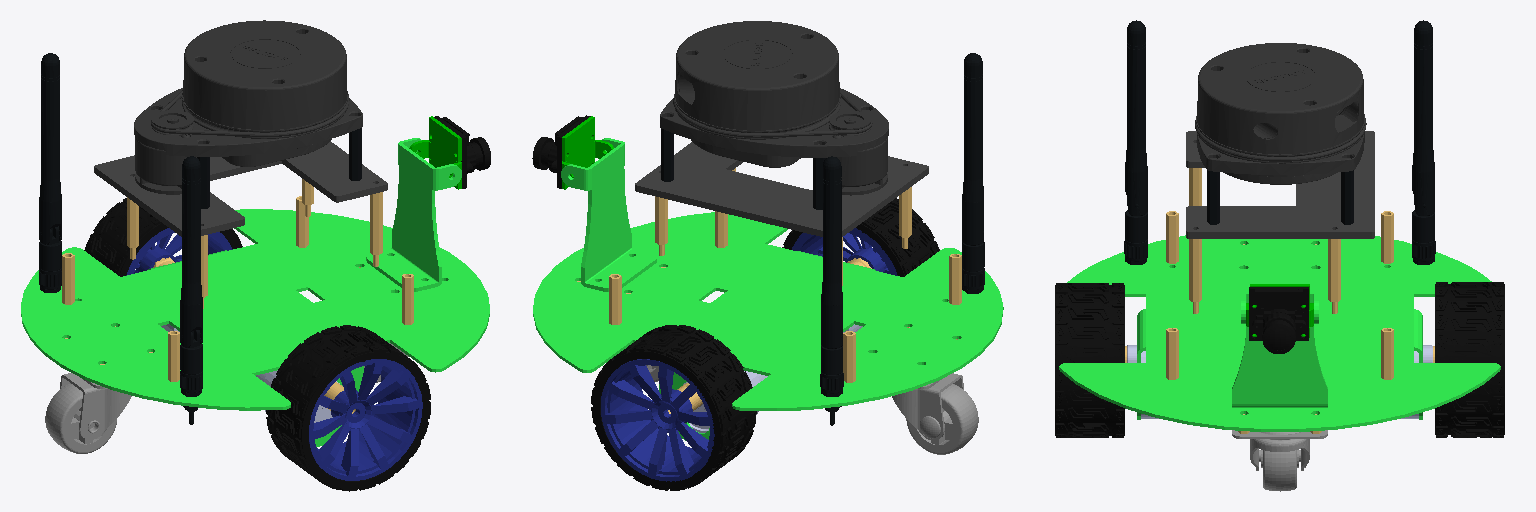
--- Facts derived from the render (not from the file) ---
The picture shows the robot from 3 angles, left to right: view 1: azimuth 30°, elevation 25°; view 2: azimuth 150°, elevation 25°; view 3: azimuth 270°, elevation 25°; orthographic projection.
Model Jetbot with 21 links and 20 joints (2 continuous, 18 fixed), rooted at base_footprint, posed all joints at 0.
Links seen in each view (by area): view 1: base_link, base_scan, antenna_link, wheel_right_rim, wheel_right_tire, upper_plate_link, bolt1_link, caster_back_link, wheel_left_tire, wheel_left_rim, camera_mount_link, camera_link (+1 smaller); view 2: base_link, base_scan, upper_plate_link, antenna_link, wheel_left_rim, wheel_left_tire, caster_back_link, bolt1_link, wheel_right_tire, wheel_right_rim, camera_mount_link, camera_link (+1 smaller); view 3: base_link, base_scan, antenna_link, wheel_left_tire, wheel_right_tire, upper_plate_link, bolt1_link, camera_link, caster_front_link, bolt2_link.
Link boxes in pixels (x1,y1,x2,y2): base_link: (21, 138, 489, 446); base_scan: (134, 20, 362, 194); antenna_link: (39, 53, 202, 424); wheel_right_rim: (309, 359, 422, 480); wheel_right_tire: (266, 325, 430, 491); upper_plate_link: (94, 141, 387, 236); bolt1_link: (62, 179, 413, 381); caster_back_link: (45, 373, 131, 453); wheel_left_tire: (84, 198, 242, 276); wheel_left_rim: (126, 228, 232, 275); camera_mount_link: (409, 116, 461, 189); camera_link: (434, 116, 490, 188); base_link: (533, 138, 1003, 440); base_scan: (660, 21, 888, 195); upper_plate_link: (635, 142, 928, 236); antenna_link: (820, 53, 984, 425); wheel_left_rim: (601, 359, 714, 481); wheel_left_tire: (591, 325, 756, 490); caster_back_link: (892, 373, 978, 454); bolt1_link: (577, 168, 961, 382); wheel_right_tire: (782, 198, 939, 276); wheel_right_rim: (792, 228, 897, 275); camera_mount_link: (562, 116, 613, 189); camera_link: (532, 115, 590, 188); base_link: (1059, 235, 1500, 431); base_scan: (1195, 43, 1366, 184); antenna_link: (1124, 20, 1435, 264); wheel_left_tire: (1435, 282, 1504, 437); wheel_right_tire: (1055, 283, 1124, 437); upper_plate_link: (1186, 131, 1374, 238); bolt1_link: (1166, 168, 1393, 433); camera_link: (1249, 287, 1308, 353); caster_front_link: (1232, 430, 1327, 491); bolt2_link: (1207, 170, 1353, 224).
Size in the robot's own frame: 0.2137 by 0.1878 by 0.1655 metres.
Meshes: 20 distinct files referenced, 18 mesh visuals loaded (18 binary STL); not drawn: 2 (reference not matched to a file when rendering).

robot.urdf — Jetbot:
<?xml version="1.0" encoding="utf-8"?>
<!-- This URDF was automatically created by SolidWorks to URDF Exporter! Originally created by Stephen Brawner ([email redacted]) 
     Commit Version: 1.6.0-4-g7f85cfe  Build Version: 1.6.7995.38578
     For more information, please see http://wiki.ros.org/sw_urdf_exporter -->
<robot
  name="Jetbot">
  
  <link name="base_footprint"/>

  <joint name="base_joint" type="fixed">
    <parent link="base_footprint"/>
    <child link="base_link"/>
    <origin xyz="0.0 0.0 0.010" rpy="0 0 0"/>
  </joint>


  <link
    name="base_link">
    <inertial>
      <origin
        xyz="0.00781963845778095 -7.35882317130787E-08 -0.000209926041797086"
        rpy="0 0 0" />
      <mass
        value="0.045584055118095" />
      <inertia
        ixx="7.90379546337164E-05"
        ixy="-6.67110738185195E-13"
        ixz="-2.39290720776838E-07"
        iyy="0.000115926497813917"
        iyz="-1.15368484324182E-10"
        izz="0.000189544079309469" />
    </inertial>
    <visual>
      <origin
        xyz="0 0 0"
        rpy="0 0 0" />
      <geometry>
        <mesh
          filename="package://jetbot_model/meshes/other_parts/base_link.STL" />
      </geometry>
      <material
        name="">
        <color
          rgba="0.223529411764706 1 0.352941176470588 1" />
      </material>
    </visual>
    <collision>
      <origin
        xyz="0 0 0"
        rpy="0 0 0" />
      <geometry>
        <mesh
          filename="package://jetbot_model/meshes/other_parts/base_link.STL" />
      </geometry>
    </collision>
  </link>
  <link
    name="wheel_right_link">
    <inertial>
      <origin
        xyz="1.98363002065771E-08 -8.50421726095174E-10 0.00586401160881991"
        rpy="0 0 0" />
      <mass
        value="0.00172858234067031" />
      <inertia
        ixx="6.56229488257871E-08"
        ixy="-4.0657627162479E-11"
        ixz="3.21252173208187E-14"
        iyy="6.48514677017681E-08"
        iyz="1.99615043771152E-15"
        izz="3.47684231742651E-08" />
    </inertial>
    <visual>
      <origin
        xyz="0 0 0"
        rpy="0 0 0" />
      <geometry>
        <mesh
          filename="package://jetbot_model/meshes/wheels/wheel_right_link.STL" />
      </geometry>
      <material
        name="">
        <color
          rgba="0.952941176470588 0.796078431372549 0.486274509803922 1" />
      </material>
    </visual>
    <collision>
      <origin
        xyz="0 0 0"
        rpy="0 0 0" />
      <geometry>
        <mesh
          filename="package://jetbot_model/meshes/wheels/wheel_right_link.STL" />
      </geometry>
    </collision>
  </link>
  <joint
    name="wheel_right_joint"
    type="continuous">
    <origin
      xyz="0 -0.0796 -0.0149998499189951"
      rpy="-1.57079632679489 0 0" />
    <parent
      link="base_link" />
    <child
      link="wheel_right_link" />
    <axis
      xyz="0 0 1" />
    <limit
      lower="0"
      upper="0"
      effort="0"
      velocity="0" />
  </joint>
  <link
    name="wheel_right_rim">
    <inertial>
      <origin
        xyz="-5.4423268058823E-08 -3.02317271563823E-08 -0.0013175684688612"
        rpy="0 0 0" />
      <mass
        value="0.0150430722977072" />
      <inertia
        ixx="5.42837949690631E-06"
        ixy="3.84011877778841E-12"
        ixz="-6.00504131491743E-12"
        iyy="5.42837483963373E-06"
        iyz="-3.30832951882215E-12"
        izz="8.62999669450023E-06" />
    </inertial>
    <visual>
      <origin
        xyz="0 0 0"
        rpy="0 0 0" />
      <geometry>
        <mesh
          filename="package://jetbot_model/meshes/wheels/wheel_right_rim.STL" />
      </geometry>
      <material
        name="">
        <color
          rgba="0.188235294117647 0.231372549019608 0.588235294117647 1" />
      </material>
    </visual>
    <collision>
      <origin
        xyz="0 0 0"
        rpy="0 0 0" />
      <geometry>
        <mesh
          filename="package://jetbot_model/meshes/wheels/wheel_right_rim.STL" />
      </geometry>
    </collision>
  </link>
  <joint
    name="wheel_right_rim_joint"
    type="fixed">
    <origin
      xyz="0 0 0"
      rpy="0 0 0" />
    <parent
      link="wheel_right_link" />
    <child
      link="wheel_right_rim" />
    <axis
      xyz="0 0 0" />
  </joint>
  <link
    name="wheel_right_tire">
    <inertial>
      <origin
        xyz="2.82158362829299E-05 0.00140580379860784 0.000181962684636737"
        rpy="0 0 0" />
      <mass
        value="0.0254630899937217" />
      <inertia
        ixx="1.28912347647895E-05"
        ixy="7.07465873148456E-10"
        ixz="-9.06345483333125E-12"
        iyy="1.29264691304977E-05"
        iyz="-4.52275733373978E-10"
        izz="2.22597285939851E-05" />
    </inertial>
    <visual>
      <origin
        xyz="0 0 0"
        rpy="0 0 0" />
      <geometry>
        <mesh
          filename="package://jetbot_model/meshes/wheels/wheel_right_tire.STL" />
      </geometry>
      <material
        name="">
        <color
          rgba="0.0980392156862745 0.0980392156862745 0.0980392156862745 1" />
      </material>
    </visual>
    <collision>
      <origin
        xyz="0 0 0"
        rpy="0 0 0" />
      <geometry>
        <mesh
          filename="package://jetbot_model/meshes/wheels/wheel_right_tire.STL" />
      </geometry>
    </collision>
  </link>
  <joint
    name="wheel_right_tire_joint"
    type="fixed">
    <origin
      xyz="0 0 0"
      rpy="0 0 0" />
    <parent
      link="wheel_right_link" />
    <child
      link="wheel_right_tire" />
    <axis
      xyz="0 0 0" />
  </joint>
  <link
    name="wheel_left_link">
    <inertial>
      <origin
        xyz="2.3009393140816E-09 1.97207421781531E-08 -0.00586401160882002"
        rpy="0 0 0" />
      <mass
        value="0.00172858234067031" />
      <inertia
        ixx="6.48580948386293E-08"
        ixy="8.1986795876624E-11"
        ixz="-7.05727936679317E-15"
        iyy="6.56163216889261E-08"
        iyz="-3.14039638015827E-14"
        izz="3.47684231742651E-08" />
    </inertial>
    <visual>
      <origin
        xyz="0 0 0"
        rpy="0 0 0" />
      <geometry>
        <mesh
          filename="package://jetbot_model/meshes/wheels/wheel_left_link.STL" />
      </geometry>
      <material
        name="">
        <color
          rgba="0.952941176470588 0.796078431372549 0.486274509803922 1" />
      </material>
    </visual>
    <collision>
      <origin
        xyz="0 0 0"
        rpy="0 0 0" />
      <geometry>
        <mesh
          filename="package://jetbot_model/meshes/wheels/wheel_left_link.STL" />
      </geometry>
    </collision>
  </link>
  <joint
    name="wheel_left_joint"
    type="continuous">
    <origin
      xyz="0 0.0796 -0.0149998499189951"
      rpy="-1.5707963267949 0 0" />
    <parent
      link="base_link" />
    <child
      link="wheel_left_link" />
    <axis
      xyz="0 0 1" />
    <limit
      lower="0"
      upper="0"
      effort="0"
      velocity="0" />
  </joint>
  <link
    name="wheel_left_rim">
    <inertial>
      <origin
        xyz="-3.84671055148056E-08 -4.89502935754893E-08 0.00131756846886109"
        rpy="0 0 0" />
      <mass
        value="0.0150430722977072" />
      <inertia
        ixx="5.42837615703599E-06"
        ixy="4.37566736479211E-12"
        ixz="4.21736389882695E-12"
        iyy="5.4283781795041E-06"
        iyz="5.40549773271856E-12"
        izz="8.62999669450022E-06" />
    </inertial>
    <visual>
      <origin
        xyz="0 0 0"
        rpy="0 0 0" />
      <geometry>
        <mesh
          filename="package://jetbot_model/meshes/wheels/wheel_left_rim.STL" />
      </geometry>
      <material
        name="">
        <color
          rgba="0.188235294117647 0.231372549019608 0.588235294117647 1" />
      </material>
    </visual>
    <collision>
      <origin
        xyz="0 0 0"
        rpy="0 0 0" />
      <geometry>
        <mesh
          filename="package://jetbot_model/meshes/wheels/wheel_left_rim.STL" />
      </geometry>
    </collision>
  </link>
  <joint
    name="wheel_left_rim_joint"
    type="fixed">
    <origin
      xyz="0 0 0"
      rpy="0 0 0" />
    <parent
      link="wheel_left_link" />
    <child
      link="wheel_left_rim" />
    <axis
      xyz="0 0 0" />
  </joint>
  <link
    name="wheel_left_tire">
    <inertial>
      <origin
        xyz="0.00139253923871222 -0.000194717544789592 -0.000181962684636799"
        rpy="0 0 0" />
      <mass
        value="0.0254630899937217" />
      <inertia
        ixx="1.29258070859562E-05"
        ixy="-4.83620972217383E-09"
        ixz="4.48006012970371E-10"
        iyy="1.28918968093311E-05"
        iyz="-6.26585791959336E-11"
        izz="2.22597285939851E-05" />
    </inertial>
    <visual>
      <origin
        xyz="0 0 0"
        rpy="0 0 0" />
      <geometry>
        <mesh
          filename="package://jetbot_model/meshes/wheels/wheel_left_tire.STL" />
      </geometry>
      <material
        name="">
        <color
          rgba="0.0980392156862745 0.0980392156862745 0.0980392156862745 1" />
      </material>
    </visual>
    <collision>
      <origin
        xyz="0 0 0"
        rpy="0 0 0" />
      <geometry>
        <mesh
          filename="package://jetbot_model/meshes/wheels/wheel_left_tire.STL" />
      </geometry>
    </collision>
  </link>
  <joint
    name="wheel_left_tire_joint"
    type="fixed">
    <origin
      xyz="0 0 0"
      rpy="0 0 0" />
    <parent
      link="wheel_left_link" />
    <child
      link="wheel_left_tire" />
    <axis
      xyz="0 0 0" />
  </joint>
  <link
    name="camera_mount_link">
    <inertial>
      <origin
        xyz="0.0911446606387492 -5.00000000013164E-05 0.0475547495822917"
        rpy="0 0 0" />
      <mass
        value="0.00369253564371622" />
      <inertia
        ixx="7.11782812945527E-07"
        ixy="-3.32390099825911E-21"
        ixz="1.1528802234911E-23"
        iyy="7.28653732283989E-08"
        iyz="1.79708825096588E-22"
        izz="7.14964958537606E-07" />
    </inertial>
    <visual>
      <origin
        xyz="0 0 0"
        rpy="0 0 0" />
      <geometry>
        <mesh
          filename="package://jetbot_model/meshes/csi/camera_mount_link.STL" />
      </geometry>
      <material
        name="">
        <color
          rgba="0 0.8 0 1" />
      </material>
    </visual>
    <collision>
      <origin
        xyz="0 0 0"
        rpy="0 0 0" />
      <geometry>
        <mesh
          filename="package://jetbot_model/meshes/csi/camera_mount_link.STL" />
      </geometry>
    </collision>
  </link>
  <joint
    name="camera_mount_joint"
    type="fixed">
    <origin
      xyz="0 0 0"
      rpy="0 0 0" />
    <parent
      link="base_link" />
    <child
      link="camera_mount_link" />
    <axis
      xyz="0 0 0" />
  </joint>
  <link
    name="camera_link">
    <inertial>
      <origin
        xyz="0.104505569284287 0.00251089945216483 0.0474874189920585"
        rpy="0 0 0" />
      <mass
        value="0.0294229179644187" />
      <inertia
        ixx="2.18815235786117E-05"
        ixy="2.75098516448229E-07"
        ixz="7.68689291749069E-11"
        iyy="1.35440746294821E-06"
        iyz="1.72750913510838E-09"
        izz="2.09152095144145E-05" />
    </inertial>
    <visual>
      <origin
        xyz="0 0 0"
        rpy="0 0 0" />
      <geometry>
        <mesh
          filename="package://jetbot_model/meshes/csi/camera_link.STL" />
      </geometry>
      <material
        name="">
        <color
          rgba="0.1 0.1 0.1 1" />
      </material>
    </visual>
    <collision>
      <origin
        xyz="0 0 0"
        rpy="0 0 0" />
      <geometry>
        <mesh
          filename="package://jetbot_model/meshes/csi/camera_link.STL" />
      </geometry>
    </collision>
  </link>
  <joint
    name="camera_joint"
    type="fixed">
    <origin
      xyz="0 0 0"
      rpy="0 0 0" />
    <parent
      link="camera_mount_link" />
    <child
      link="camera_link" />
    <axis
      xyz="0 0 0" />
  </joint>
  <link
    name="caster_back_link">
    <inertial>
      <origin
        xyz="-0.00973608929282141 0.0160138996536298 0.000112305501830591"
        rpy="0 0 0" />
      <mass
        value="0.0122543299069677" />
      <inertia
        ixx="1.03465897444937E-06"
        ixy="4.08895923420779E-08"
        ixz="2.41090924462367E-13"
        iyy="1.24920234693942E-06"
        iyz="-2.2498975199297E-12"
        izz="1.2900058431033E-06" />
    </inertial>
    <visual>
      <origin
        xyz="0 0 0"
        rpy="0 0 0" />
      <geometry>
        <mesh
          filename="package://jetbot_model/meshes/other_parts/caster_back_link.STL" />
      </geometry>
      <material
        name="">
        <color
          rgba="0.627450980392157 0.627450980392157 0.627450980392157 1" />
      </material>
    </visual>
    <collision>
      <origin
        xyz="0 0 0"
        rpy="0 0 0" />
      <geometry>
        <mesh
          filename="package://jetbot_model/meshes/other_parts/caster_back_link.STL" />
      </geometry>
    </collision>
  </link>
  <joint
    name="caster_back_joint"
    type="fixed">
    <origin
      xyz="-0.072 0 -0.0103157534698361"
      rpy="-1.5707963267949 0 0" />
    <parent
      link="base_link" />
    <child
      link="caster_back_link" />
    <axis
      xyz="0 0 0" />
  </joint>
  <link
    name="caster_front_link">
    <inertial>
      <origin
        xyz="-0.00973608929282145 0.0136318109633328 0.00011230550183057"
        rpy="0 0 0" />
      <mass
        value="0.0122543299069677" />
      <inertia
        ixx="1.03465897444937E-06"
        ixy="4.08895923420787E-08"
        ixz="2.41090924810355E-13"
        iyy="1.24920234693941E-06"
        iyz="-2.24989751966103E-12"
        izz="1.29000584310329E-06" />
    </inertial>
    <visual>
      <origin
        xyz="0 0 0"
        rpy="0 0 0" />
      <geometry>
        <mesh
          filename="package://jetbot_model/meshes/other_parts/caster_front_link.STL" />
      </geometry>
      <material
        name="">
        <color
          rgba="0.627450980392157 0.627450980392157 0.627450980392157 1" />
      </material>
    </visual>
    <collision>
      <origin
        xyz="0 0 0"
        rpy="0 0 0" />
      <geometry>
        <mesh
          filename="package://jetbot_model/meshes/other_parts/caster_front_link.STL" />
      </geometry>
    </collision>
  </link>
  <joint
    name="caster_front_joint"
    type="fixed">
    <origin
      xyz="0.072 0 -0.0126978421601332"
      rpy="-1.5707963267949 0 0" />
    <parent
      link="base_link" />
    <child
      link="caster_front_link" />
    <axis
      xyz="0 0 0" />
  </joint>
  <link
    name="imu_link">
    <inertial>
      <origin
        xyz="0.00785413895950092 0.000589850419601447 -0.00363505947193948"
        rpy="0 0 0" />
      <mass
        value="0.0511068131705108" />
      <inertia
        ixx="3.02554869448374E-05"
        ixy="-6.81147489939493E-08"
        ixz="4.3124398785099E-10"
        iyy="3.79539557275355E-05"
        iyz="-1.32997366822506E-10"
        izz="6.69860000874932E-05" />
    </inertial>
    <visual>
      <origin
        xyz="0 0 0"
        rpy="0 0 0" />
      <geometry>
        <mesh
          filename="package://jetbot_model/meshes/other_parts/imu_link.STL" />
      </geometry>
      <material
        name="">
        <color
          rgba="0.5 0.5 0.5 1" />
      </material>
    </visual>
    <collision>
      <origin
        xyz="0 0 0"
        rpy="0 0 0" />
      <geometry>
        <mesh
          filename="package://jetbot_model/meshes/other_parts/imu_link.STL" />
      </geometry>
    </collision>
  </link>
  <joint
    name="imu_joint"
    type="fixed">
    <origin
      xyz="-0.00987996130762421 -0.000612791192577962 0.02311148"
      rpy="0 0 0" />
    <parent
      link="base_link" />
    <child
      link="imu_link" />
    <axis
      xyz="0 0 0" />
  </joint>
  <link
    name="base_scan">
    <inertial>
      <origin
        xyz="-0.013480243056544 0.000481284255951939 -0.00102869936495666"
        rpy="0 0 0" />
      <mass
        value="0.0634432857550415" />
      <inertia
        ixx="1.68383298504221E-05"
        ixy="-1.0448046286551E-07"
        ixz="4.28825686069912E-07"
        iyy="2.10729825490332E-05"
        iyz="-9.43318165957986E-09"
        izz="3.56809250260432E-05" />
    </inertial>
    <visual>
      <origin
        xyz="0 0 0"
        rpy="0 0 0" />
      <geometry>
        <mesh
          filename="package://jetbot_model/meshes/other_parts/base_scan.STL" />
      </geometry>
      <material
        name="">
        <color
          rgba="0.250980392156863 0.250980392156863 0.250980392156863 1" />
      </material>
    </visual>
    <collision>
      <origin
        xyz="0 0 0"
        rpy="0 0 0" />
      <geometry>
        <mesh
          filename="package://jetbot_model/meshes/other_parts/base_scan.STL" />
      </geometry>
    </collision>
  </link>
  <joint
    name="scan_joint"
    type="fixed">
    <origin
      xyz="0.005050049260789 0.000300068757988995 0.092186480000001"
      rpy="0 0 0" />
    <parent
      link="base_link" />
    <child
      link="base_scan" />
    <axis
      xyz="0 0 0" />
  </joint>
  <link
    name="left_motor_link">
    <inertial>
      <origin
        xyz="-2.95081696598254E-07 0.0340253884275023 -0.0216175641159498"
        rpy="0 0 0" />
      <mass
        value="0.0142497272964593" />
      <inertia
        ixx="1.363828934402E-06"
        ixy="-1.47318833570828E-11"
        ixz="-3.04947037598095E-10"
        iyy="2.22876633823434E-06"
        iyz="7.05904980580848E-09"
        izz="1.38872041914448E-06" />
    </inertial>
    <visual>
      <origin
        xyz="0 0 0"
        rpy="0 0 0" />
      <geometry>
        <mesh
          filename="package://jetbot_model/meshes/other_parts/left_motor_link.STL" />
      </geometry>
      <material
        name="">
        <color
          rgba="0.792156862745098 0.819607843137255 0.933333333333333 1" />
      </material>
    </visual>
    <collision>
      <origin
        xyz="0 0 0"
        rpy="0 0 0" />
      <geometry>
        <mesh
          filename="package://jetbot_model/meshes/other_parts/left_motor_link.STL" />
      </geometry>
    </collision>
  </link>
  <joint
    name="left_motor_joint"
    type="fixed">
    <origin
      xyz="0 0 0"
      rpy="0 0 0" />
    <parent
      link="base_link" />
    <child
      link="left_motor_link" />
    <axis
      xyz="0 0 0" />
  </joint>
  <link
    name="right_motor_link">
    <inertial>
      <origin
        xyz="2.9508169580722E-07 -0.0340253884275023 -0.0216175641159498"
        rpy="0 0 0" />
      <mass
        value="0.0142497272964593" />
      <inertia
        ixx="1.36382893440199E-06"
        ixy="-1.4731883386706E-11"
        ixz="3.0494703759845E-10"
        iyy="2.22876633823434E-06"
        iyz="-7.05904980580746E-09"
        izz="1.38872041914447E-06" />
    </inertial>
    <visual>
      <origin
        xyz="0 0 0"
        rpy="0 0 0" />
      <geometry>
        <mesh
          filename="package://jetbot_model/meshes/other_parts/right_motor_link.STL" />
      </geometry>
      <material
        name="">
        <color
          rgba="0.792156862745098 0.819607843137255 0.933333333333333 1" />
      </material>
    </visual>
    <collision>
      <origin
        xyz="0 0 0"
        rpy="0 0 0" />
      <geometry>
        <mesh
          filename="package://jetbot_model/meshes/other_parts/right_motor_link.STL" />
      </geometry>
    </collision>
  </link>
  <joint
    name="right_motor_joint"
    type="fixed">
    <origin
      xyz="0 0 0"
      rpy="0 0 0" />
    <parent
      link="base_link" />
    <child
      link="right_motor_link" />
    <axis
      xyz="0 0 0" />
  </joint>
  <link
    name="upper_plate_link">
    <inertial>
      <origin
        xyz="-0.00767109086663368 0.00605296729060913 0.0621864800000008"
        rpy="0 0 0" />
      <mass
        value="0.017501498901108" />
      <inertia
        ixx="8.93579854534511E-06"
        ixy="-2.74359099373368E-07"
        ixz="4.81575673334949E-19"
        iyy="1.85512486025031E-05"
        iyz="7.07344062963383E-21"
        izz="2.74607948994966E-05" />
    </inertial>
    <visual>
      <origin
        xyz="0 0 0"
        rpy="0 0 0" />
      <geometry>
        <mesh
          filename="package://jetbot_model/meshes/other_parts/upper_plate_link.STL" />
      </geometry>
      <material
        name="">
        <color
          rgba="0.3 0.3 0.3 1" />
      </material>
    </visual>
    <collision>
      <origin
        xyz="0 0 0"
        rpy="0 0 0" />
      <geometry>
        <mesh
          filename="package://jetbot_model/meshes/other_parts/upper_plate_link.STL" />
      </geometry>
    </collision>
  </link>
  <joint
    name="upper_plate_joint"
    type="fixed">
    <origin
      xyz="0 0 0"
      rpy="0 0 0" />
    <parent
      link="base_link" />
    <child
      link="upper_plate_link" />
    <axis
      xyz="0 0 0" />
  </joint>
  <link
    name="antenna_link">
    <inertial>
      <origin
        xyz="-0.0660028995154912 4.40577031377808E-05 0.046811826812688"
        rpy="0 0 0" />
      <mass
        value="0.0134623075785536" />
      <inertia
        ixx="5.56374948010225E-06"
        ixy="-1.03911483629354E-10"
        ixz="-1.35565928440356E-09"
        iyy="5.56559707819264E-06"
        iyz="2.22326930039963E-08"
        izz="1.27639331293959E-07" />
    </inertial>
    <visual>
      <origin
        xyz="0 0 0"
        rpy="0 0 0" />
      <geometry>
        <mesh
          filename="package://jetbot_model/meshes/other_parts/antenna_link.STL" />
      </geometry>
      <material
        name="">
        <color
          rgba="0.0941176470588235 0.109803921568627 0.12156862745098 1" />
      </material>
    </visual>
    <collision>
      <origin
        xyz="0 0 0"
        rpy="0 0 0" />
      <geometry>
        <mesh
          filename="package://jetbot_model/meshes/other_parts/antenna_link.STL" />
      </geometry>
    </collision>
  </link>
  <joint
    name="antenna_joint"
    type="fixed">
    <origin
      xyz="0 0 0"
      rpy="0 0 0" />
    <parent
      link="base_link" />
    <child
      link="antenna_link" />
    <axis
      xyz="0 0 0" />
  </joint>
  <link
    name="bolt1_link">
    <inertial>
      <origin
        xyz="-0.00455766525705633 -0.00317236412008241 0.0247802088927017"
        rpy="0 0 0" />
      <mass
        value="0.00350899316323701" />
      <inertia
        ixx="2.155192655442E-07"
        ixy="9.56888278033086E-24"
        ixz="-1.90766612358315E-21"
        iyy="2.155192655442E-07"
        iyz="-1.87384696573834E-23"
        izz="1.35592340647674E-08" />
    </inertial>
    <visual>
      <origin
        xyz="0 0 0"
        rpy="0 0 0" />
      <geometry>
        <mesh
          filename="package://jetbot_model/meshes/other_parts/bolt1_link.STL" />
      </geometry>
      <material
        name="">
        <color
          rgba="0.952941176470588 0.796078431372549 0.486274509803922 1" />
      </material>
    </visual>
    <collision>
      <origin
        xyz="0 0 0"
        rpy="0 0 0" />
      <geometry>
        <mesh
          filename="package://jetbot_model/meshes/other_parts/bolt1_link.STL" />
      </geometry>
    </collision>
  </link>
  <joint
    name="bolt1_joint"
    type="fixed">
    <origin
      xyz="0 0 0"
      rpy="0 0 0" />
    <parent
      link="base_link" />
    <child
      link="bolt1_link" />
    <axis
      xyz="0 0 0" />
  </joint>
  <link
    name="bolt2_link">
    <inertial>
      <origin
        xyz="-0.00194995073921093 0.000300068757989755 0.07618648"
        rpy="0 0 0" />
      <mass
        value="0.00138168957720949" />
      <inertia
        ixx="7.45830222388665E-08"
        ixy="3.22236047148893E-24"
        ixz="-2.87219091256268E-24"
        iyy="7.45830222388665E-08"
        iyz="-7.36261831006086E-24"
        izz="5.24004685174395E-09" />
    </inertial>
    <visual>
      <origin
        xyz="0 0 0"
        rpy="0 0 0" />
      <geometry>
        <mesh
          filename="package://jetbot_model/meshes/other_parts/bolt2_link.STL" />
      </geometry>
      <material
        name="">
        <color
          rgba="0.0941176470588235 0.109803921568627 0.12156862745098 1" />
      </material>
    </visual>
    <collision>
      <origin
        xyz="0 0 0"
        rpy="0 0 0" />
      <geometry>
        <mesh
          filename="package://jetbot_model/meshes/other_parts/bolt2_link.STL" />
      </geometry>
    </collision>
  </link>
  <joint
    name="bolt2_joint"
    type="fixed">
    <origin
      xyz="0 0 0"
      rpy="0 0 0" />
    <parent
      link="base_link" />
    <child
      link="bolt2_link" />
    <axis
      xyz="0 0 0" />
  </joint>
  <link
    name="nano_link">
    <inertial>
      <origin
        xyz="-0.00451688299579642 -0.00383913355729881 0.0407445974225003"
        rpy="0 0 0" />
      <mass
        value="0.0559886683886946" />
      <inertia
        ixx="1.11286118138229E-05"
        ixy="-6.96076101617625E-09"
        ixz="1.44681908116963E-07"
        iyy="2.01937826489502E-05"
        iyz="-1.30775142928514E-08"
        izz="2.98989437667499E-05" />
    </inertial>
    <visual>
      <origin
        xyz="0 0 0"
        rpy="0 0 0" />
      <geometry>
        <mesh
          filename="package://jetbot_model/meshes/other_parts/nano_link.STL" />
      </geometry>
      <material
        name="">
        <color
          rgba="0.4 0.4 0.4 1" />
      </material>
    </visual>
    <collision>
      <origin
        xyz="0 0 0"
        rpy="0 0 0" />
      <geometry>
        <mesh
          filename="package://jetbot_model/meshes/other_parts/nano_link.STL" />
      </geometry>
    </collision>
  </link>
  <joint
    name="nano_joint"
    type="fixed">
    <origin
      xyz="0 0 0"
      rpy="0 0 0" />
    <parent
      link="base_link" />
    <child
      link="nano_link" />
    <axis
      xyz="0 0 0" />
  </joint>
</robot>
